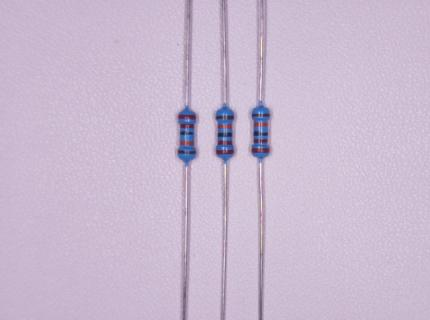Black band: (218, 133, 233, 137), (180, 131, 194, 135), (254, 132, 268, 136)
Brown band: (178, 150, 196, 154), (252, 113, 270, 117), (216, 116, 234, 119)
Orange band: (180, 141, 194, 145), (218, 125, 232, 129), (254, 123, 268, 127)
Red band: (217, 150, 234, 155), (252, 148, 269, 153), (179, 115, 195, 119), (218, 141, 232, 144), (181, 125, 194, 128), (254, 140, 267, 143)
